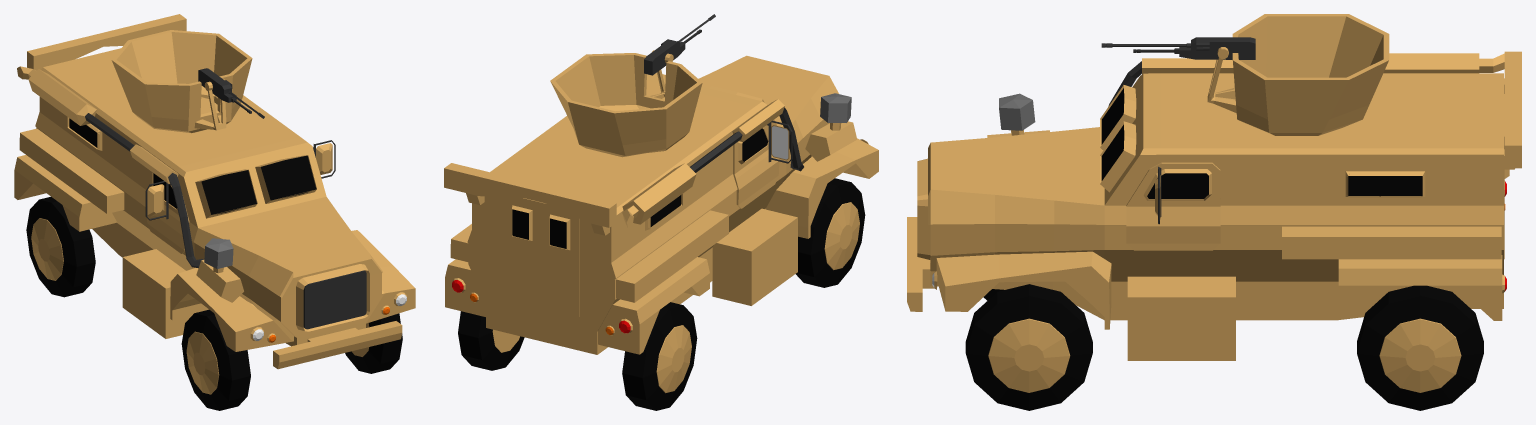
3 renders of one model, left to right at view 1: azimuth 30°, elevation 25°; view 2: azimuth 150°, elevation 25°; view 3: azimuth 270°, elevation 25°, orthographic. The views are drawn at different scales.
Visible parts, largest first — view 1: Plane.028, Cube.016, Cylinder.024, Cylinder.021, Cylinder.022, Plane.029, Cylinder.020, Cube.017, Plane.033; view 2: Plane.028, Cube.016, Cylinder.024, Cylinder.021, Cylinder.022, Plane.031, Plane.032, Plane.029, Cylinder.023, Cube.017; view 3: Plane.028, Cube.016, Cylinder.020, Cylinder.023, Plane.033, Cylinder.024, Cube.017.
Part boxes in pixels (x1=…): Plane.028: x1=14, y1=48, x2=415, y2=369; Cube.016: x1=111, y1=30, x2=252, y2=133; Cylinder.024: x1=17, y1=14, x2=243, y2=302; Cylinder.021: x1=26, y1=196, x2=95, y2=297; Cylinder.022: x1=181, y1=309, x2=250, y2=410; Plane.029: x1=145, y1=171, x2=189, y2=253; Cylinder.020: x1=345, y1=313, x2=402, y2=373; Cube.017: x1=198, y1=68, x2=264, y2=118; Plane.033: x1=313, y1=140, x2=335, y2=178; Plane.028: x1=445, y1=55, x2=878, y2=354; Cube.016: x1=550, y1=50, x2=702, y2=157; Cylinder.024: x1=444, y1=93, x2=857, y2=235; Cylinder.021: x1=622, y1=302, x2=697, y2=410; Cylinder.022: x1=796, y1=178, x2=865, y2=287; Plane.031: x1=503, y1=197, x2=541, y2=307; Plane.032: x1=541, y1=202, x2=579, y2=316; Plane.029: x1=733, y1=120, x2=792, y2=208; Cylinder.023: x1=458, y1=311, x2=524, y2=370; Cube.017: x1=644, y1=14, x2=715, y2=75; Plane.028: x1=907, y1=73, x2=1506, y2=360; Cube.016: x1=1207, y1=14, x2=1389, y2=135; Cylinder.020: x1=965, y1=284, x2=1092, y2=410; Cylinder.023: x1=1357, y1=285, x2=1483, y2=410; Plane.033: x1=1126, y1=162, x2=1220, y2=250; Cylinder.024: x1=987, y1=51, x2=1521, y2=169; Cube.017: x1=1101, y1=37, x2=1255, y2=59.
Bounding box in the file's own units: 253 × 323 × 565.
